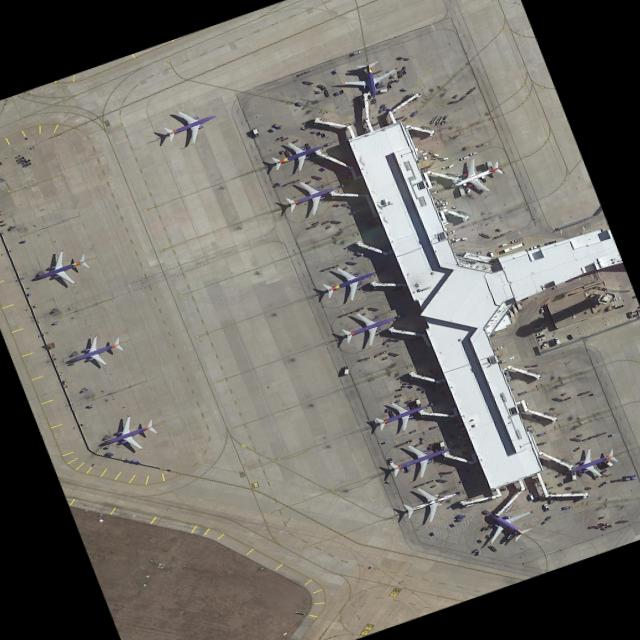large-vehicle: (350, 51, 362, 56), (343, 366, 349, 375), (454, 421, 463, 427), (533, 493, 539, 500), (543, 504, 549, 511)
plane: (383, 431, 458, 488), (469, 498, 545, 551), (314, 256, 382, 311), (91, 409, 161, 462), (335, 301, 403, 355), (398, 477, 464, 529), (279, 170, 345, 222), (159, 101, 221, 152), (29, 245, 92, 295), (369, 391, 434, 439), (444, 153, 507, 202), (558, 440, 622, 487), (339, 56, 401, 104), (64, 329, 126, 376), (267, 133, 328, 179), (503, 243, 524, 253)
small-vehicle: (500, 356, 514, 364), (436, 199, 446, 205), (252, 129, 259, 137), (511, 238, 522, 243), (541, 341, 548, 348), (530, 245, 539, 250), (460, 156, 469, 161), (546, 241, 556, 245), (528, 494, 534, 500), (627, 312, 633, 318), (554, 338, 560, 344), (388, 458, 393, 465), (489, 251, 494, 258), (469, 152, 477, 156), (457, 435, 465, 439), (494, 347, 502, 351), (615, 305, 623, 309), (534, 330, 542, 334), (534, 327, 542, 331), (613, 297, 621, 301), (355, 252, 363, 256), (539, 337, 546, 341), (537, 335, 544, 339), (536, 332, 543, 336), (440, 206, 446, 210), (441, 202, 447, 206), (507, 378, 513, 381), (540, 308, 543, 313)
